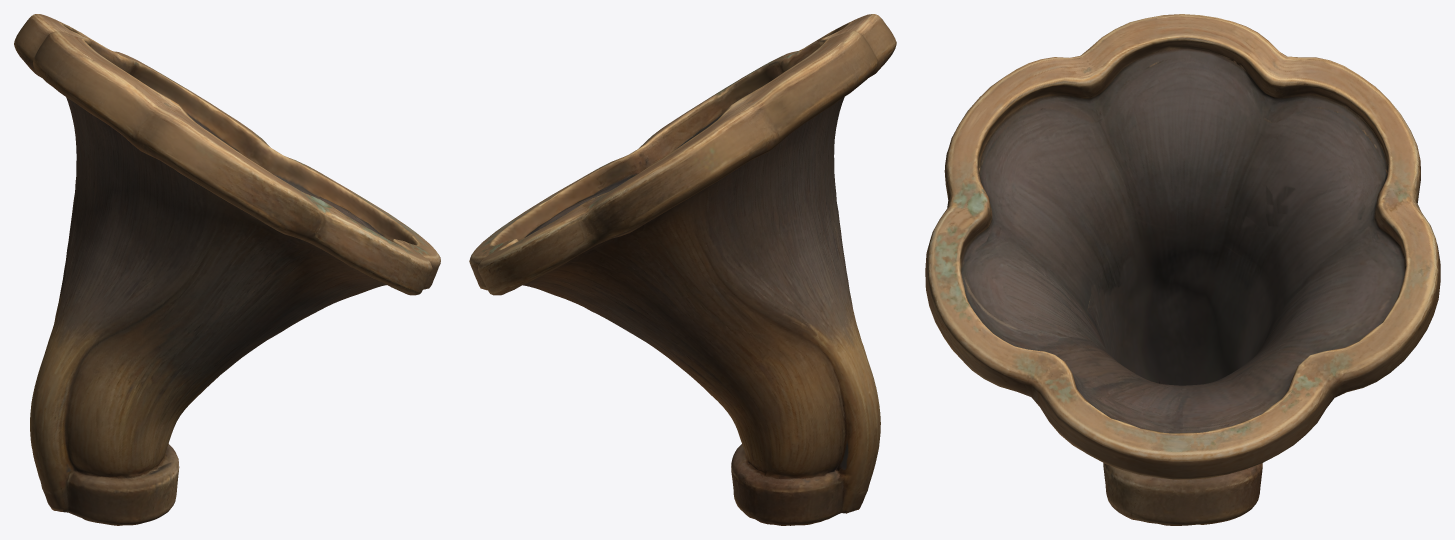
File: Furn_Gramophone_Horn.fbx
3 views of the same model, side by side, from view 1: azimuth 30°, elevation 25°; view 2: azimuth 150°, elevation 25°; view 3: azimuth 270°, elevation 25° (orthographic). The views are drawn at different scales.
Visible parts, largest first — view 1: texture_mapping; view 2: texture_mapping; view 3: texture_mapping.
Boxes of the visible parts, x1,y1,x2,y2 form: texture_mapping: [14, 14, 440, 525]; texture_mapping: [469, 14, 896, 525]; texture_mapping: [925, 14, 1440, 525].
Size of the model in its own units: 0.8765 by 0.9961 by 1.
1 material, 1 textured.
